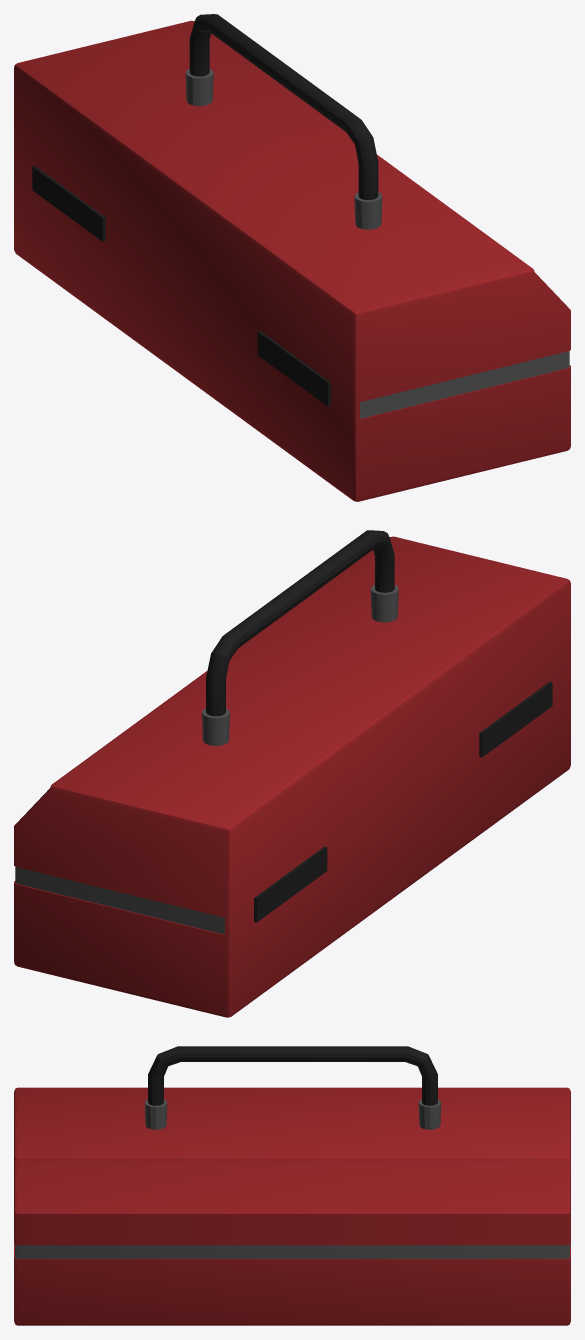
Rendered from ToolBoxEdited.fbx.
The picture shows the model from 3 angles, top to bottom: view 1: azimuth 30°, elevation 25°; view 2: azimuth 150°, elevation 25°; view 3: azimuth 270°, elevation 25°; orthographic projection. The views are drawn at different scales.
Visible parts, largest first — view 1: Toolbox.001, Toolbox; view 2: Toolbox.001, Toolbox; view 3: Toolbox.001, Toolbox.
Part boxes in pixels (box(x1,y1,x2,y2)): Toolbox.001: box(14, 14, 570, 409); Toolbox: box(14, 161, 570, 501); Toolbox.001: box(14, 530, 570, 925); Toolbox: box(14, 677, 570, 1017); Toolbox.001: box(14, 1046, 570, 1250); Toolbox: box(14, 1243, 570, 1325).
Size of the model in its own units: 722 by 899 by 1938.
